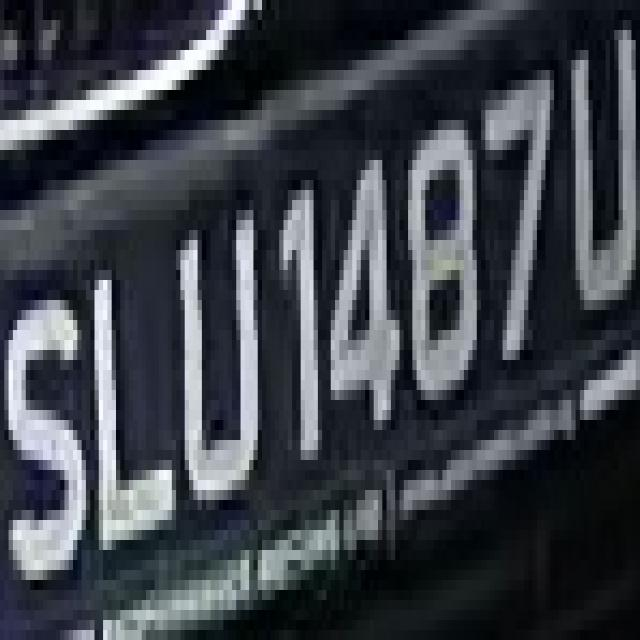1: (279, 190, 331, 490)
4: (318, 140, 408, 460)
7: (481, 60, 563, 420)
8: (400, 110, 486, 420)
L: (86, 260, 176, 570)
S: (9, 270, 90, 610)
U: (168, 170, 266, 530), (4, 0, 4, 6)
